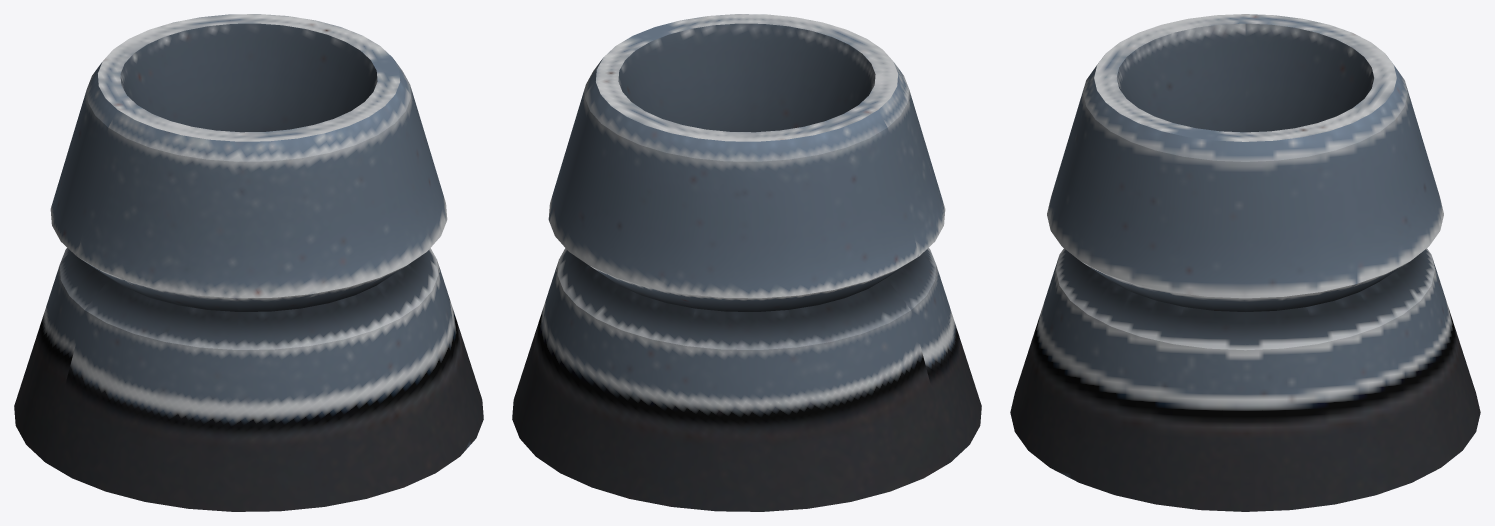
The model's file is ManeuveringThruster3.fbx.
3 views of the same model, side by side, from view 1: azimuth 30°, elevation 25°; view 2: azimuth 150°, elevation 25°; view 3: azimuth 270°, elevation 25° (orthographic).
Parts seen in each view (by area): view 1: ManeuveringThruster3; view 2: ManeuveringThruster3; view 3: ManeuveringThruster3.
Part boxes in pixels (box(x1,y1,x2,y2)): ManeuveringThruster3: box(14, 14, 483, 511); ManeuveringThruster3: box(512, 14, 981, 511); ManeuveringThruster3: box(1010, 14, 1480, 511).
Size of the model in its own units: 8.44 by 6.62 by 8.44.
